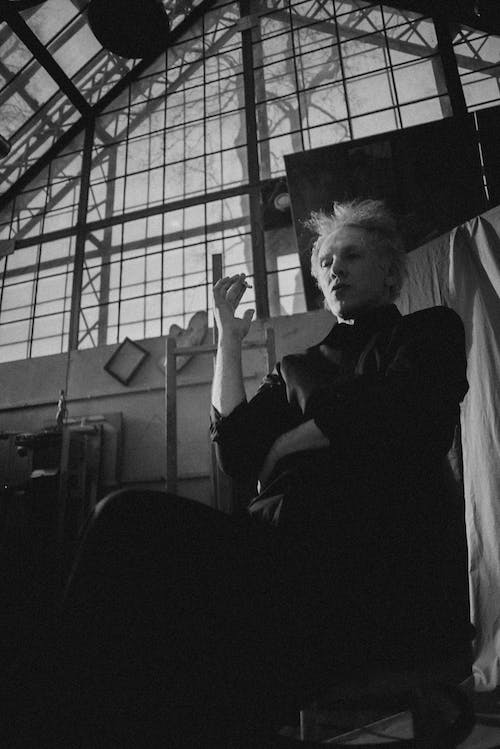cigarette: (239, 277, 257, 291)
